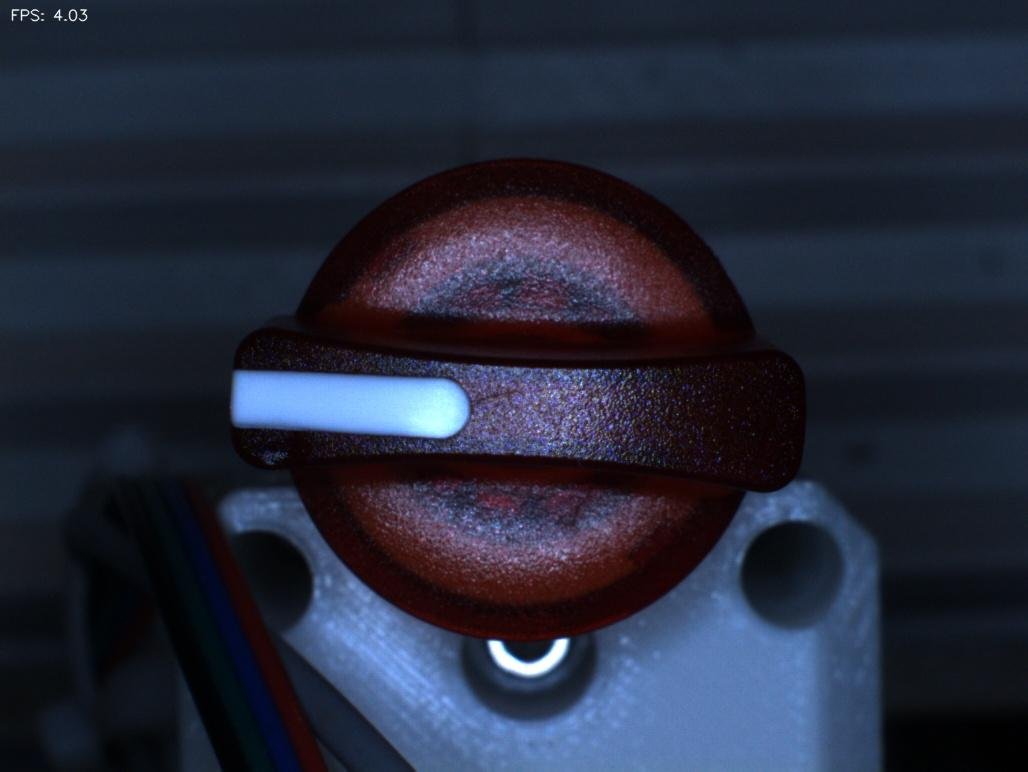Choc: (238, 425, 323, 494)
